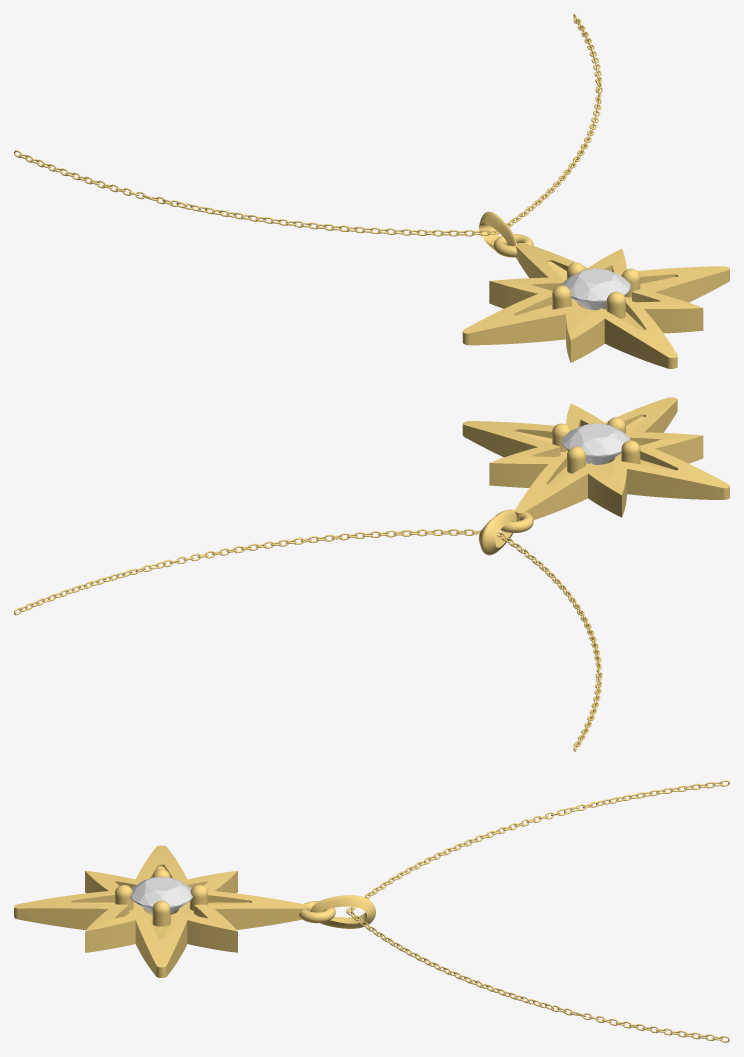
The model's file is DeniseV2NEW_blender.glb.
3 renders of one model, top to bottom at view 1: azimuth 30°, elevation 25°; view 2: azimuth 150°, elevation 25°; view 3: azimuth 270°, elevation 25°, orthographic. The views are drawn at different scales.
Visible parts, largest first — view 1: V2 Denise YG for 3d model, V2 Denise dia for 3d model; view 2: V2 Denise YG for 3d model, V2 Denise dia for 3d model; view 3: V2 Denise YG for 3d model, V2 Denise dia for 3d model.
Part boxes in pixels (x1,y1,x2,y2): V2 Denise YG for 3d model: [14, 14, 729, 368]; V2 Denise dia for 3d model: [562, 268, 630, 310]; V2 Denise YG for 3d model: [14, 397, 729, 751]; V2 Denise dia for 3d model: [562, 423, 630, 464]; V2 Denise YG for 3d model: [14, 780, 729, 1042]; V2 Denise dia for 3d model: [130, 877, 192, 913].
Size of the model in its own units: 33.76 by 2.74 by 39.68.
